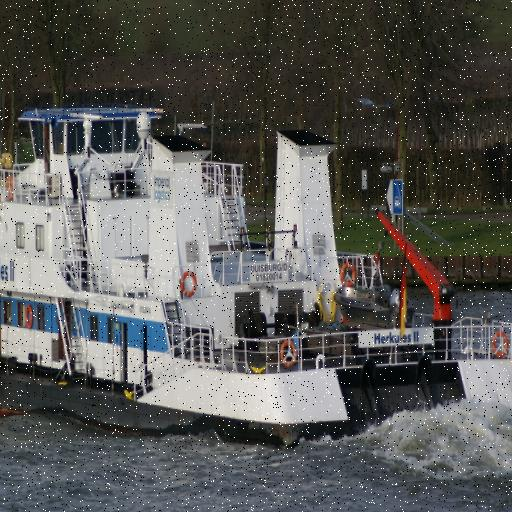tugboat: (1, 101, 512, 465)
